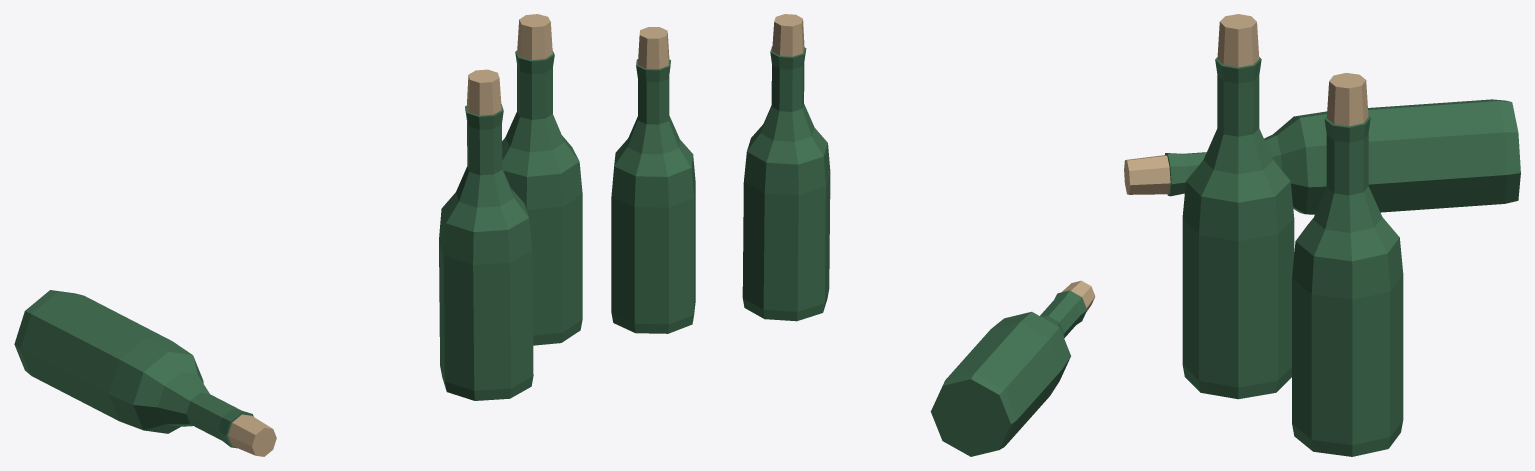
The model's file is Bottle2.fbx.
The picture shows the model from 3 angles, left to right: view 1: azimuth 30°, elevation 25°; view 2: azimuth 150°, elevation 25°; view 3: azimuth 270°, elevation 25°; orthographic projection. The views are drawn at different scales.
Visible parts, largest first — view 1: Bottle6; view 2: Bottle6; view 3: Bottle6.
Part boxes in pixels (x1=…): Bottle6: x1=14, y1=14, x2=582, y2=456; Bottle6: x1=611, y1=14, x2=1095, y2=456; Bottle6: x1=1124, y1=14, x2=1520, y2=456.
Size of the model in its own units: 160 by 95.64 by 96.24.
